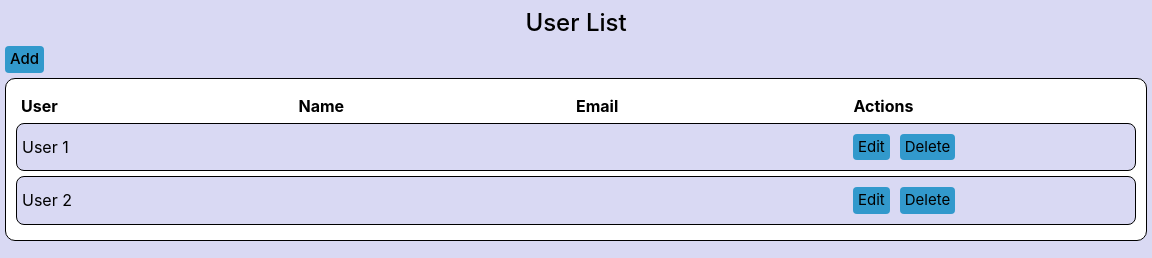
Test case: UserPage › should handle user deletion
Expected: the text "User 1" is shown, [22,137,69,157]
Click the button "Delete" in the row of "User 1".
click(928, 147)  # box [900,134,955,160]
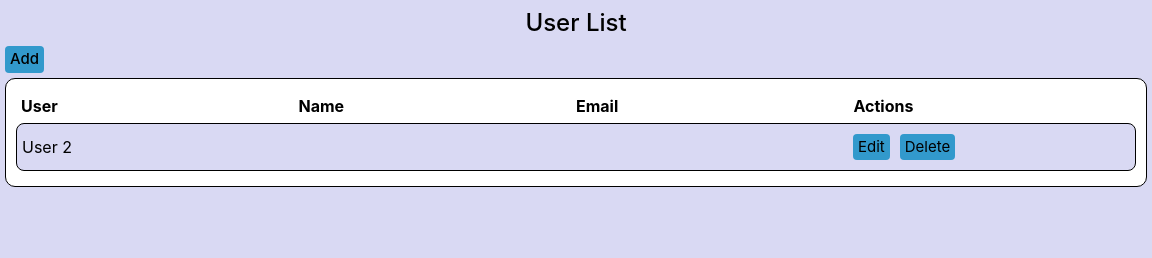
Result: the text "User 1" is gone
